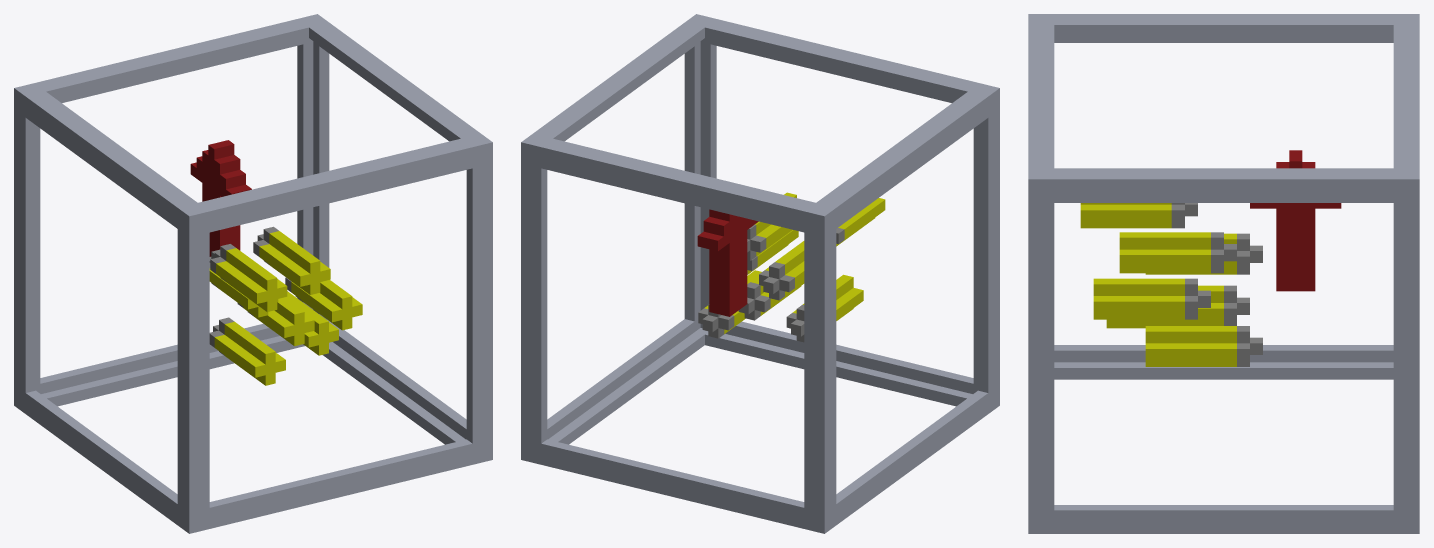
Rendered from FirerateUP.obj.
3 renders of one model, left to right at view 1: azimuth 30°, elevation 25°; view 2: azimuth 150°, elevation 25°; view 3: azimuth 270°, elevation 25°, orthographic. The views are drawn at different scales.
Size of the model in its own units: 3 by 3 by 3.
Materials: 1 (1 with a texture image).
